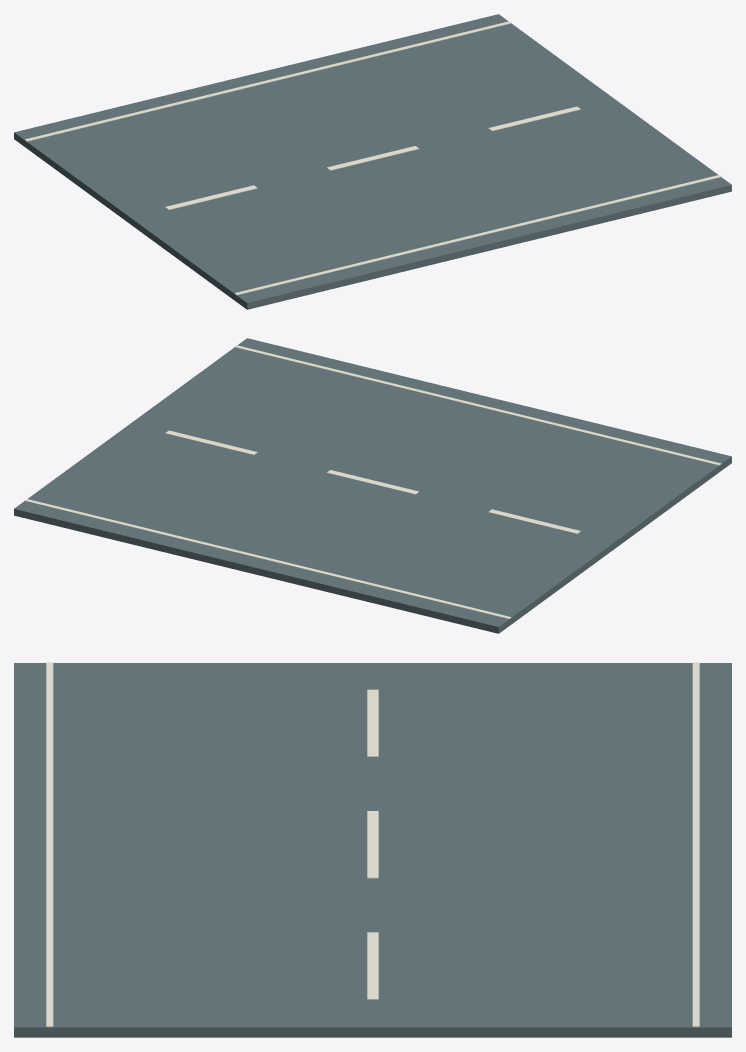
File: road-section.glb
3 renders of one model, top to bottom at view 1: azimuth 30°, elevation 25°; view 2: azimuth 150°, elevation 25°; view 3: azimuth 270°, elevation 25°, orthographic. The views are drawn at different scales.
Parts seen in each view (by area): view 1: road-section; view 2: road-section; view 3: road-section.
Boxes of the visible parts, x1=… form: road-section: x1=14, y1=14, x2=731, y2=309; road-section: x1=14, y1=338, x2=731, y2=633; road-section: x1=14, y1=662, x2=731, y2=1037.
Size of the model in its own units: 12 by 0.173 by 10.
